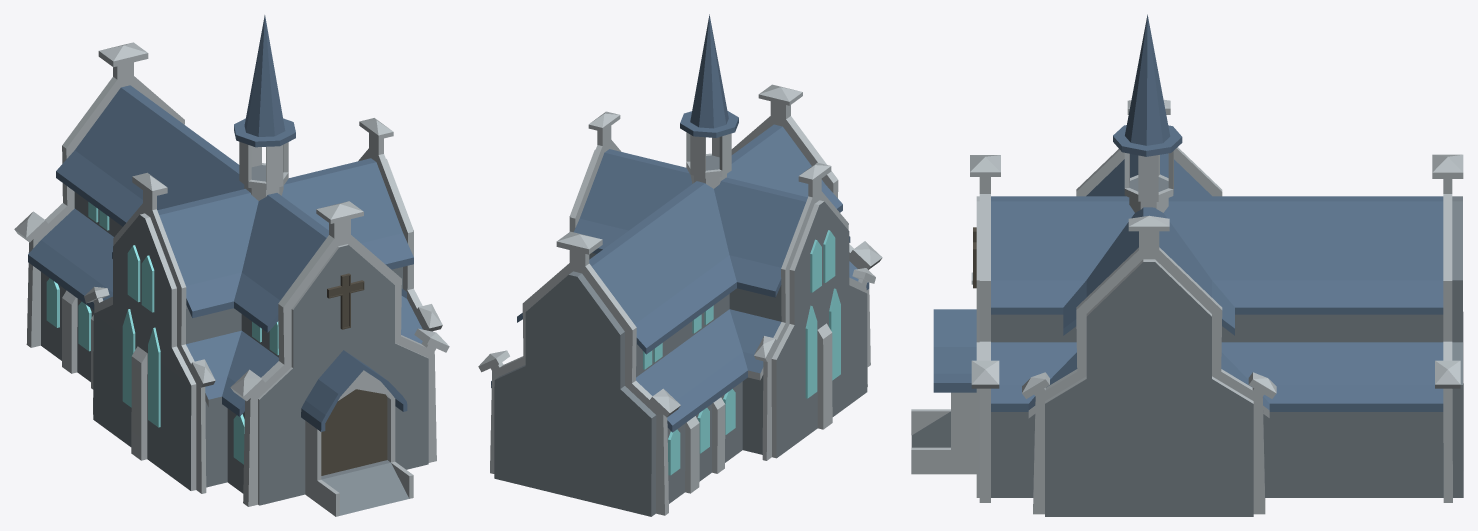
Rendered from FMP_Church_Shaded.fbx.
3 views of the same model, side by side, from view 1: azimuth 30°, elevation 25°; view 2: azimuth 150°, elevation 25°; view 3: azimuth 270°, elevation 25° (orthographic). The views are drawn at different scales.
Visible parts, largest first — view 1: polySurface28; view 2: polySurface28; view 3: polySurface28.
Boxes of the visible parts, x1,y1,x2,y2 form: polySurface28: (14,15,449,516); polySurface28: (478,14,882,516); polySurface28: (911,14,1463,516).
Size of the model in its own units: 1224 by 1941 by 2207.
